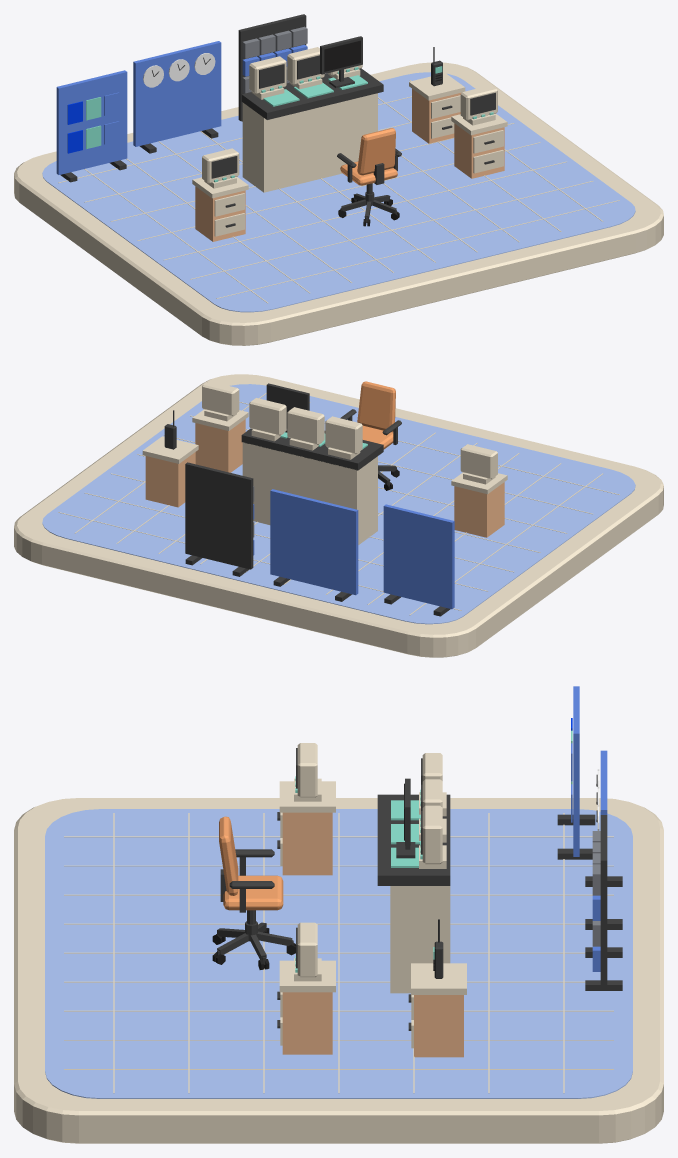
3 renders of one model, top to bottom at view 1: azimuth 30°, elevation 25°; view 2: azimuth 150°, elevation 25°; view 3: azimuth 270°, elevation 25°, orthographic. The views are drawn at different scales.
Parts seen in each view (by area): view 1: COM-02 Floor Surface, COM-01 Rounded Base Direct, Console, Panel.002, Panel.001, COM-04_Chair_blender_direct, Panel, Frame, Panel.003, Body, Body.001, Body.002 (+16 smaller); view 2: COM-02 Floor Surface, COM-01 Rounded Base Direct, Panel.002, Console, Panel.001, Panel.003, COM-04_Chair_blender_direct, Body, Body.001, Body.002, Panel, Housing (+8 smaller); view 3: COM-02 Floor Surface, COM-01 Rounded Base Direct, COM-04_Chair_blender_direct, Console, Body, Body.001, Body.002, Panel, Top.002, Panel.003, Top.001, Top (+12 smaller).
Boxes of the visible parts, x1,y1,x2,y2 form: COM-02 Floor Surface: [42, 72, 635, 312]; COM-01 Rounded Base Direct: [14, 62, 663, 345]; Console: [242, 93, 377, 192]; Panel.002: [133, 41, 221, 146]; Panel.001: [56, 70, 127, 174]; COM-04_Chair_blender_direct: [337, 128, 401, 226]; Panel: [241, 68, 383, 119]; Frame: [320, 36, 362, 87]; Panel.003: [238, 14, 306, 121]; Body: [195, 186, 245, 241]; Body.001: [454, 123, 504, 178]; Body.002: [412, 89, 461, 143]; COM-02 Floor Surface: [42, 384, 635, 624]; COM-01 Rounded Base Direct: [14, 374, 663, 657]; Panel.002: [270, 489, 358, 595]; Console: [242, 442, 377, 544]; Panel.001: [383, 504, 454, 609]; Panel.003: [185, 462, 253, 569]; COM-04_Chair_blender_direct: [340, 381, 401, 490]; Body: [454, 482, 504, 537]; Body.001: [195, 419, 245, 472]; Body.002: [145, 452, 195, 507]; Panel: [241, 428, 383, 470]; Housing: [325, 416, 362, 454]; COM-02 Floor Surface: [45, 809, 632, 1098]; COM-01 Rounded Base Direct: [14, 798, 663, 1143]; COM-04_Chair_blender_direct: [212, 816, 295, 969]; Console: [390, 886, 450, 993]; Body: [282, 812, 332, 875]; Body.001: [282, 992, 332, 1054]; Body.002: [414, 995, 463, 1057]; Panel: [377, 794, 450, 885]; Top.002: [411, 963, 466, 994]; Panel.003: [600, 815, 607, 987]; Top.001: [279, 960, 335, 992]; Top: [279, 781, 335, 812].
Size of the model in its own units: 6 by 1.88 by 5.2.
Materials: 1 (1 with a texture image).
